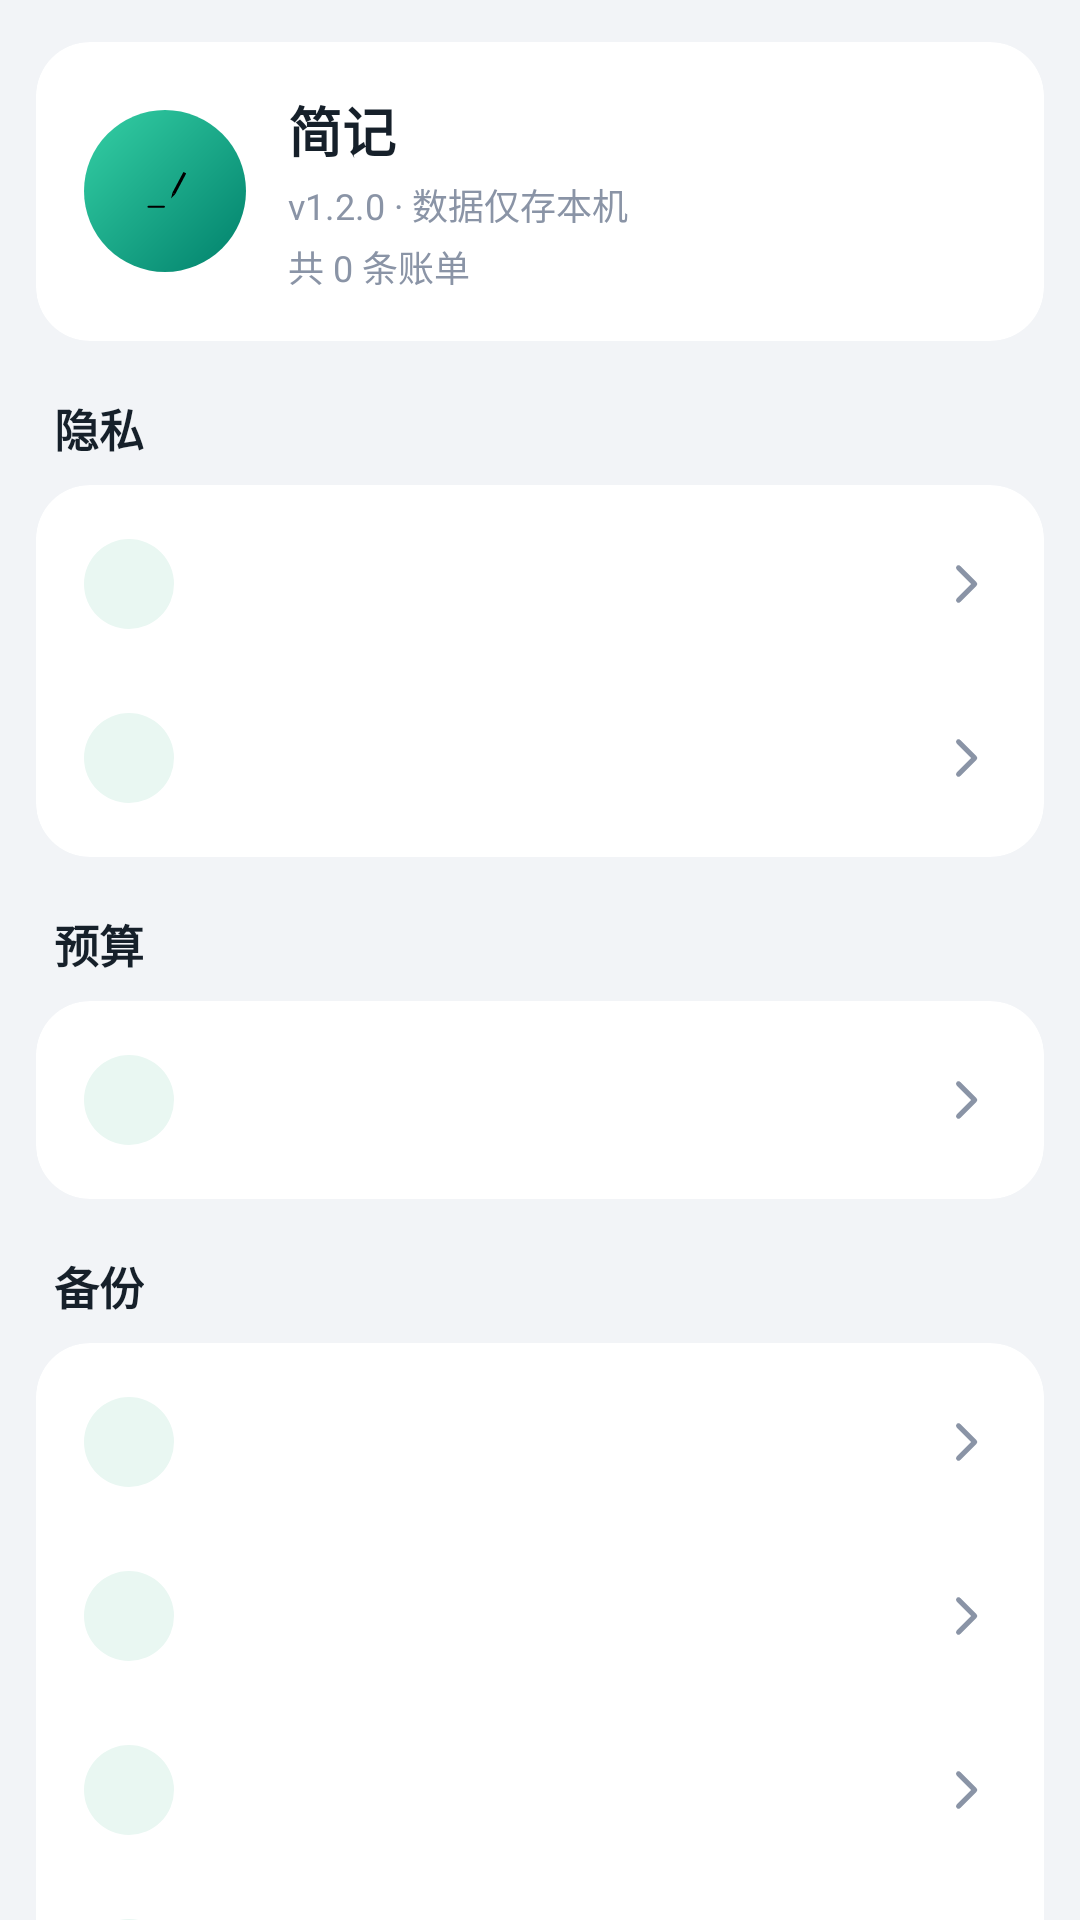

Named icons in this screenshot (1080×1920) and their bounding boxes, {"left": x1, "top": y1, "right": x2, "bottom": y2}:
chevron right: {"left": 956, "top": 565, "right": 977, "bottom": 603}, {"left": 956, "top": 739, "right": 977, "bottom": 777}, {"left": 956, "top": 1081, "right": 977, "bottom": 1119}, {"left": 956, "top": 1423, "right": 977, "bottom": 1461}, {"left": 956, "top": 1597, "right": 977, "bottom": 1635}, {"left": 956, "top": 1771, "right": 977, "bottom": 1809}
